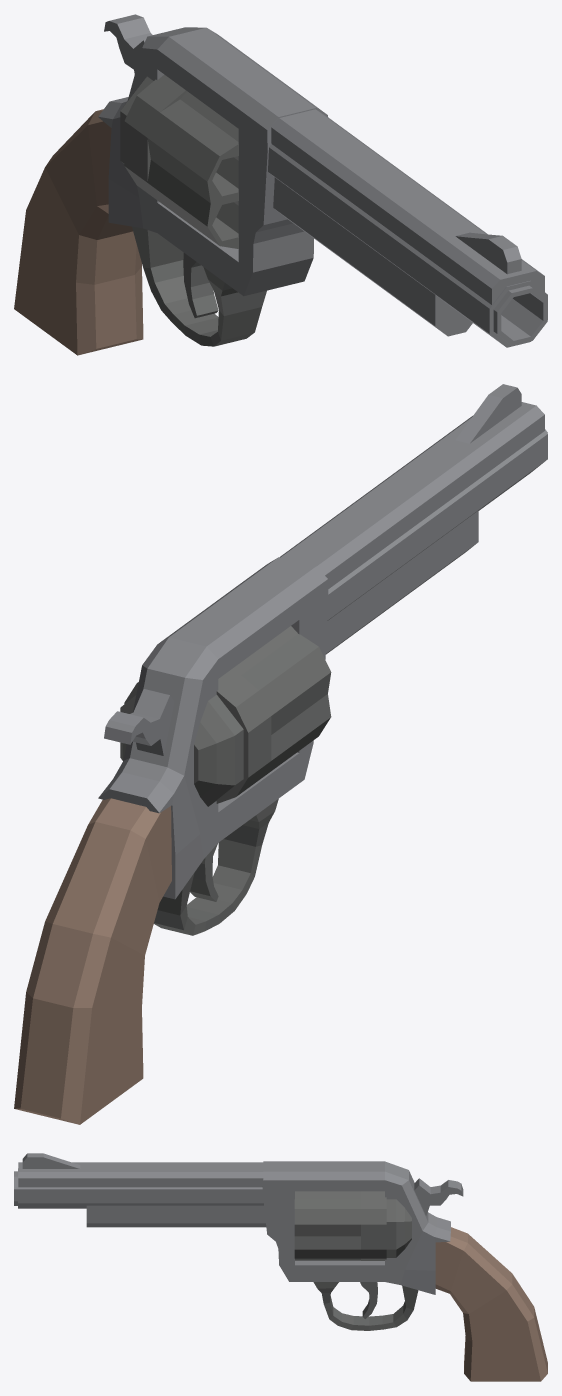
Rendered from revolver_1.glb.
The picture shows the model from 3 angles, top to bottom: view 1: azimuth 30°, elevation 25°; view 2: azimuth 150°, elevation 25°; view 3: azimuth 270°, elevation 25°; orthographic projection. The views are drawn at different scales.
Visible parts, largest first — view 1: revolver_1; view 2: revolver_1; view 3: revolver_1.
Part boxes in pixels (x1,y1,x2,y2): revolver_1: [14, 14, 547, 355]; revolver_1: [14, 384, 547, 1124]; revolver_1: [14, 1153, 547, 1381].
Size of the model in its own units: 0.0445 by 0.1345 by 0.2995.
